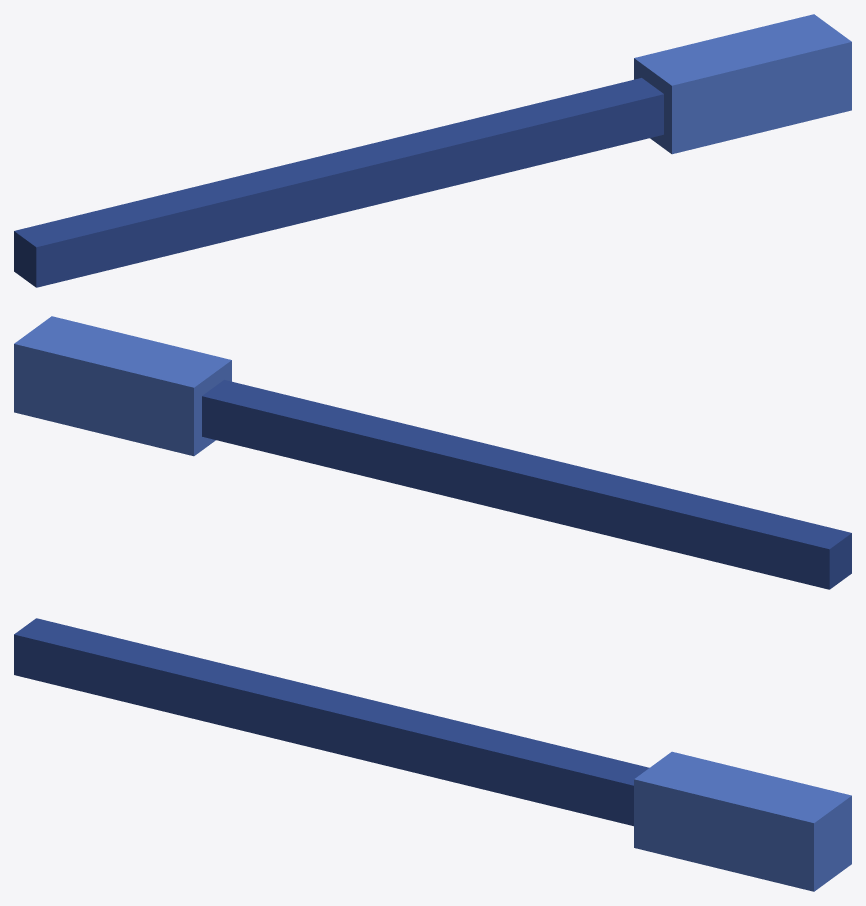
Rendered from Cable_D_1_1.fbx.
3 renders of one model, top to bottom at view 1: azimuth 30°, elevation 25°; view 2: azimuth 150°, elevation 25°; view 3: azimuth 330°, elevation 25°, orthographic.
Visible parts, largest first — view 1: Cable_D_1_1; view 2: Cable_D_1_1; view 3: Cable_D_1_1.
Boxes of the visible parts, x1,y1,x2,y2 form: Cable_D_1_1: (14, 14, 851, 287); Cable_D_1_1: (14, 316, 851, 589); Cable_D_1_1: (14, 618, 851, 891).
Size of the model in its own units: 121 by 9.83 by 9.83.
